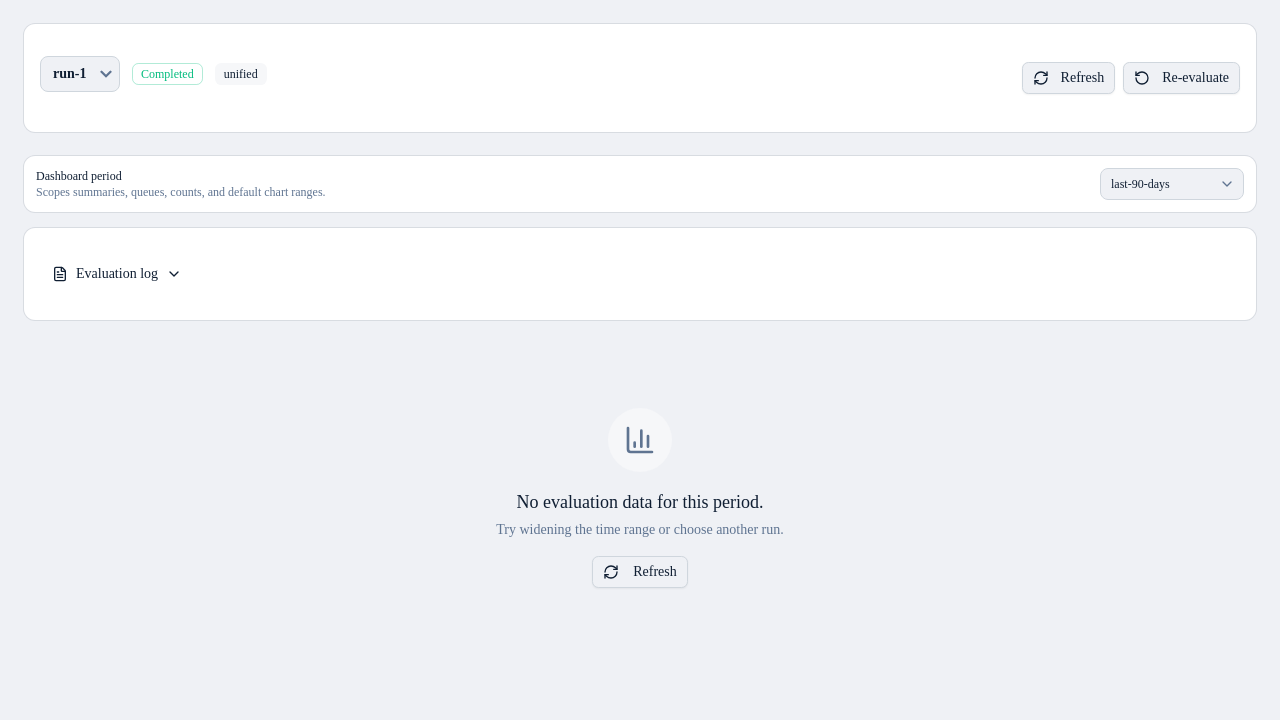
Test: Monitor page evaluation configuration › does not release a null-timestamp overlay for pre-accept or failed cached data
Click the button "Re-evaluate" at [1182, 78], box [1123,62,1240,94]
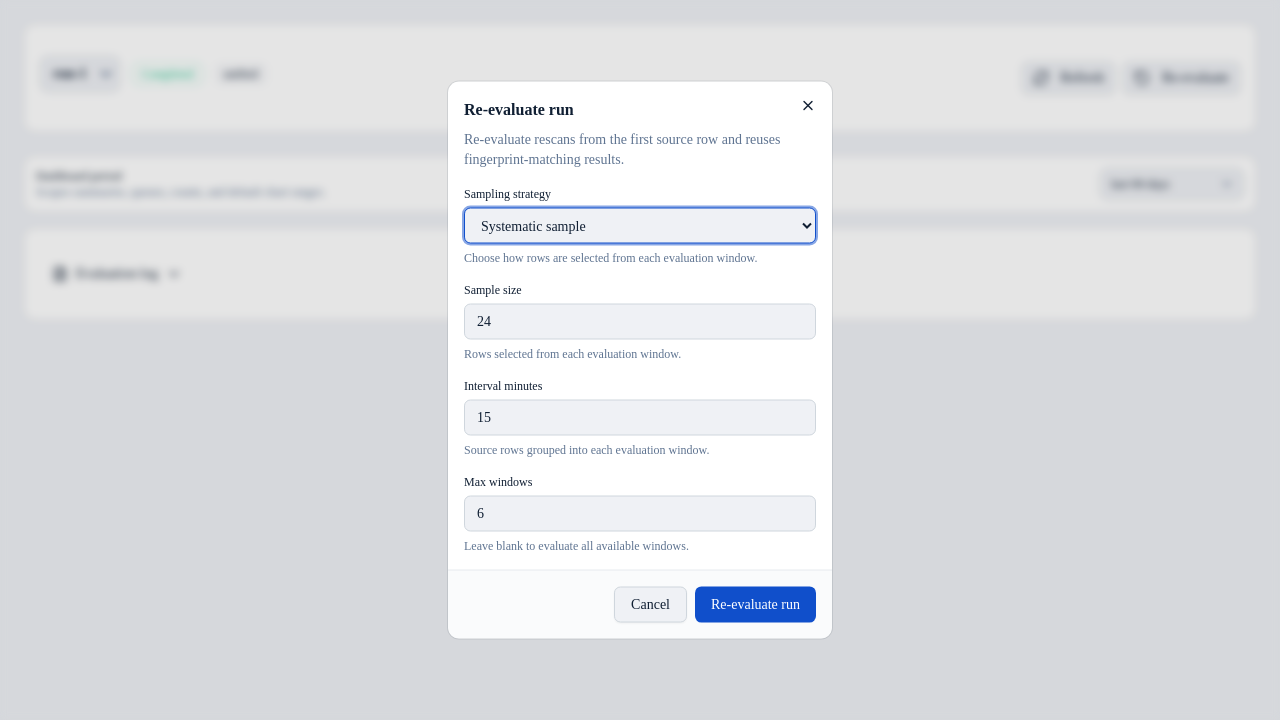
Click the button "Re-evaluate run" at [756, 604], box [695,586,816,622]
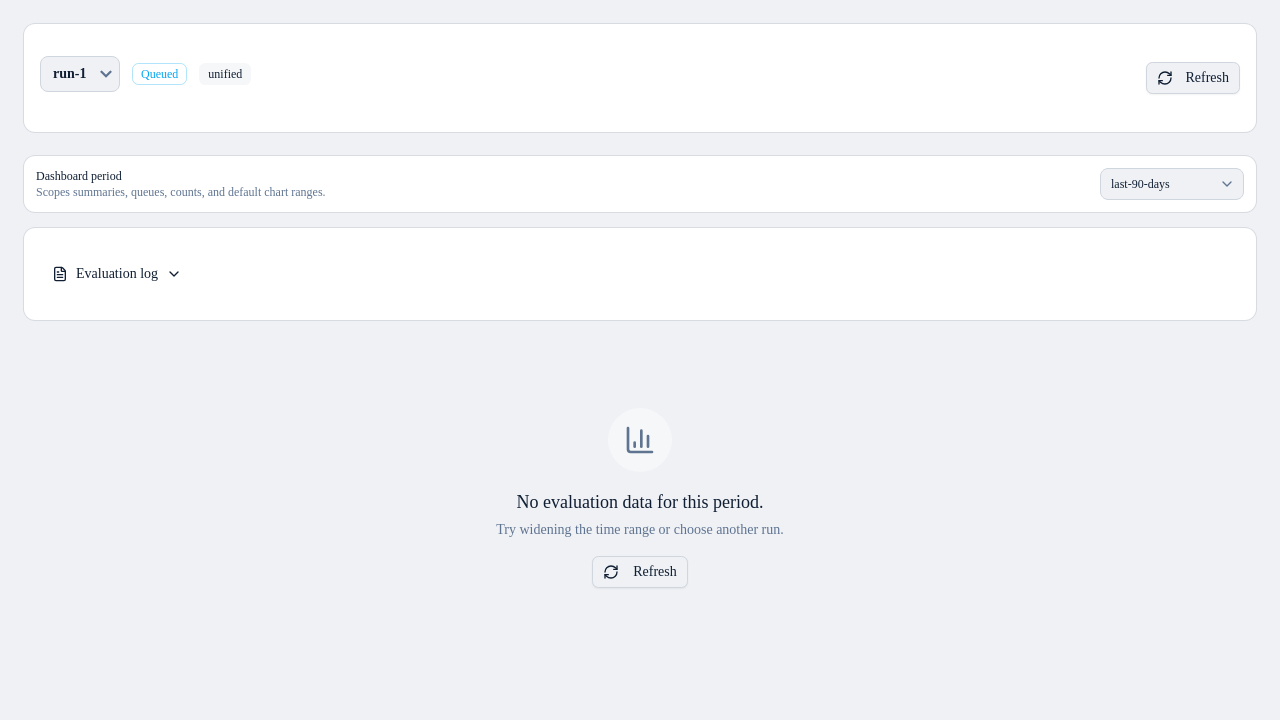
Expected: the heading "Re-evaluate run" is gone
